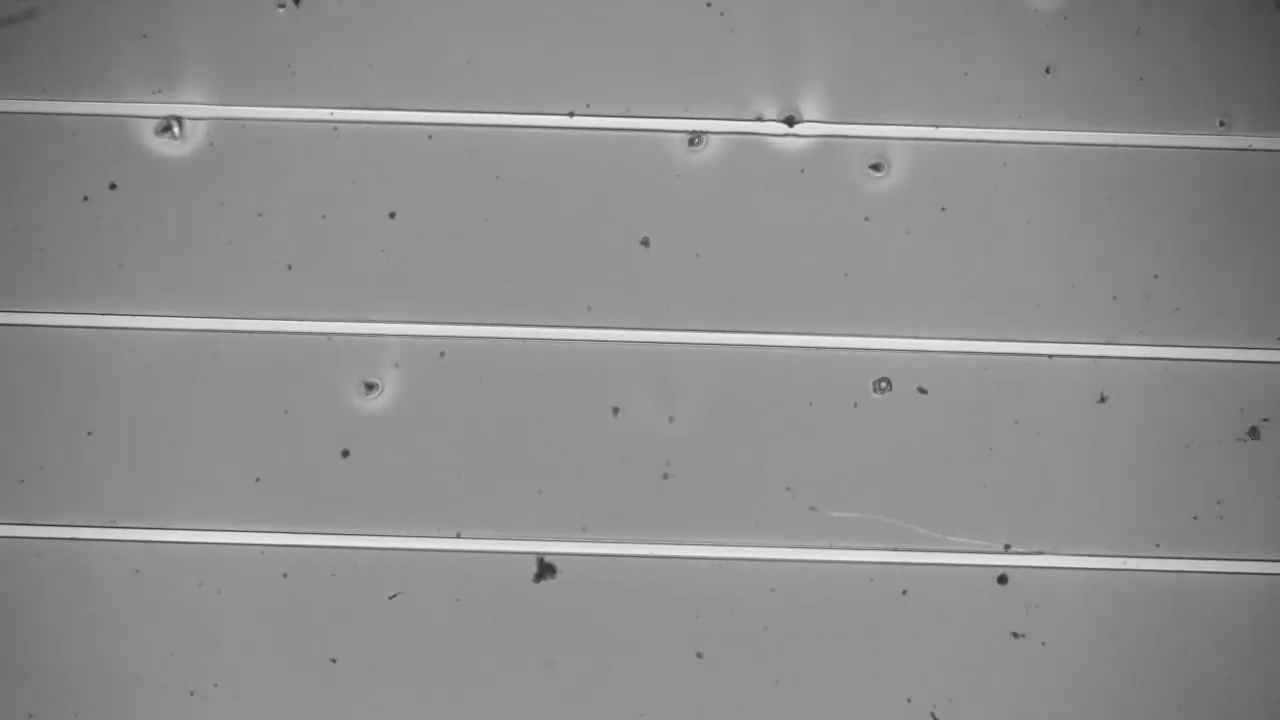stains_enbedded: (766, 101, 807, 149)
